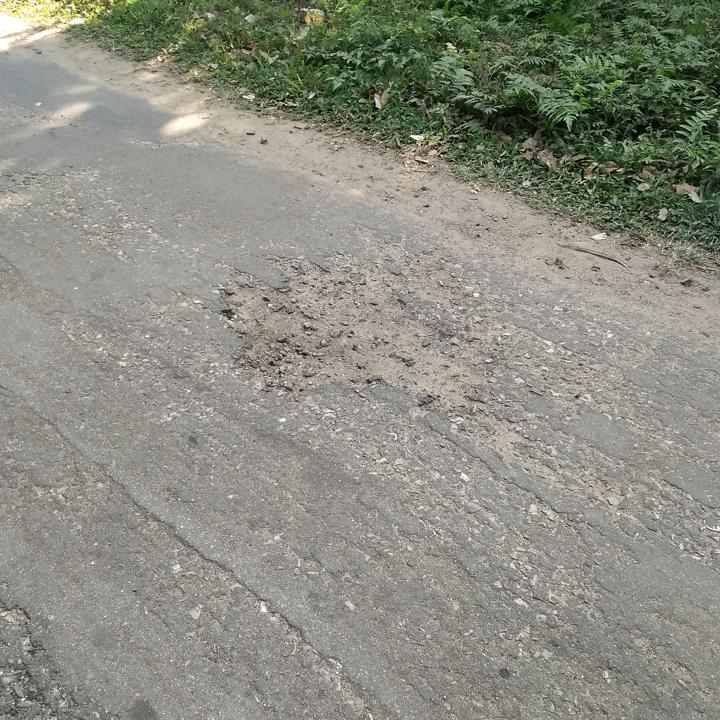pothole: (213, 251, 483, 409)
